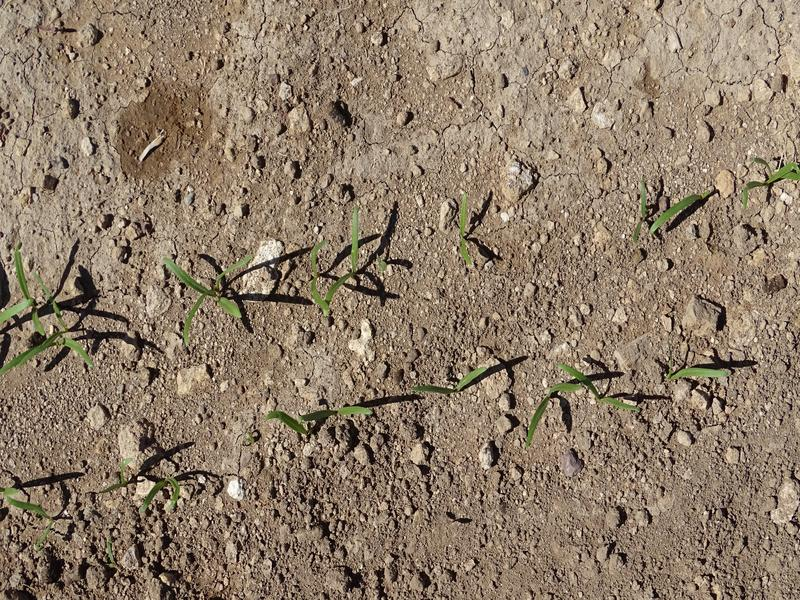Espinaca: (4, 251, 105, 372), (157, 252, 257, 342), (305, 209, 392, 311), (535, 363, 656, 416), (634, 178, 709, 232), (728, 154, 798, 201), (412, 363, 489, 403), (450, 190, 479, 270), (142, 475, 190, 517), (300, 399, 374, 425), (1, 485, 54, 519), (669, 363, 729, 384)
